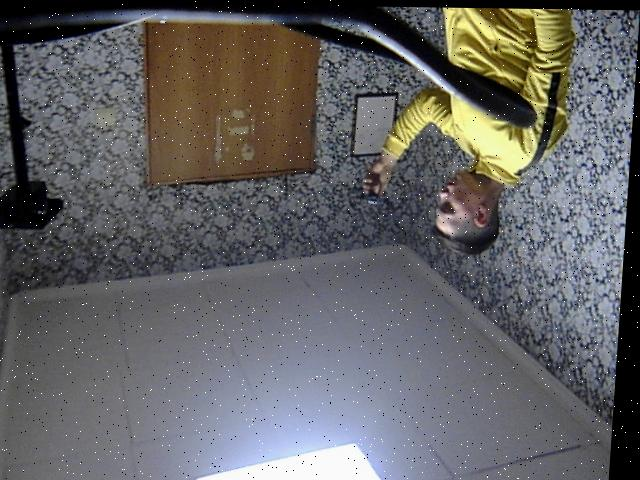drone: (348, 176, 400, 221)
